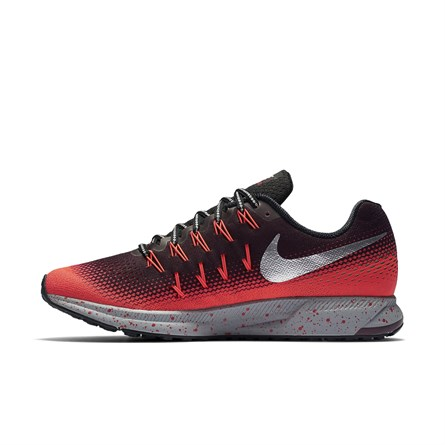nike: (256, 230, 390, 288)
